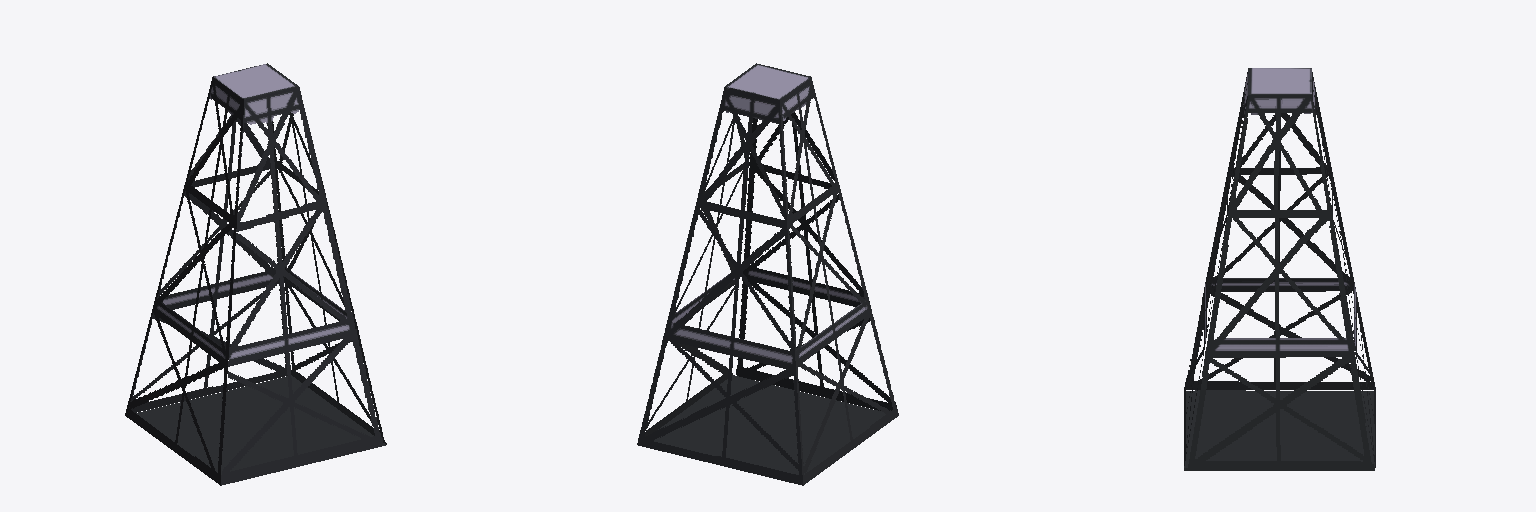
The picture shows the model from 3 angles: view 1: azimuth 30°, elevation 25°; view 2: azimuth 150°, elevation 25°; view 3: azimuth 270°, elevation 25°; orthographic projection.
Visible parts, largest first — view 1: Cube; view 2: Cube; view 3: Cube.
Part boxes in pixels (bbox=[...]): Cube: bbox=[125, 63, 386, 485]; Cube: bbox=[637, 63, 898, 485]; Cube: bbox=[1184, 68, 1375, 470].
Bounding box in the file's own units: 2 × 4.01 × 2.
1 materials, 1 textured.